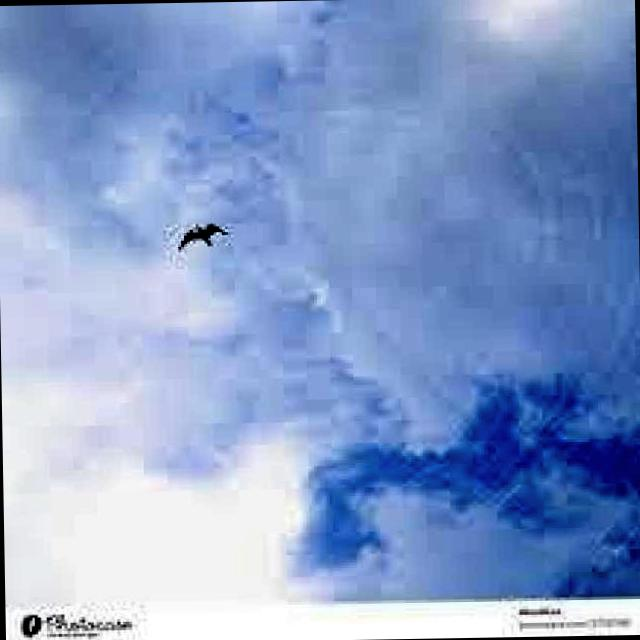bird: (174, 218, 237, 259)
